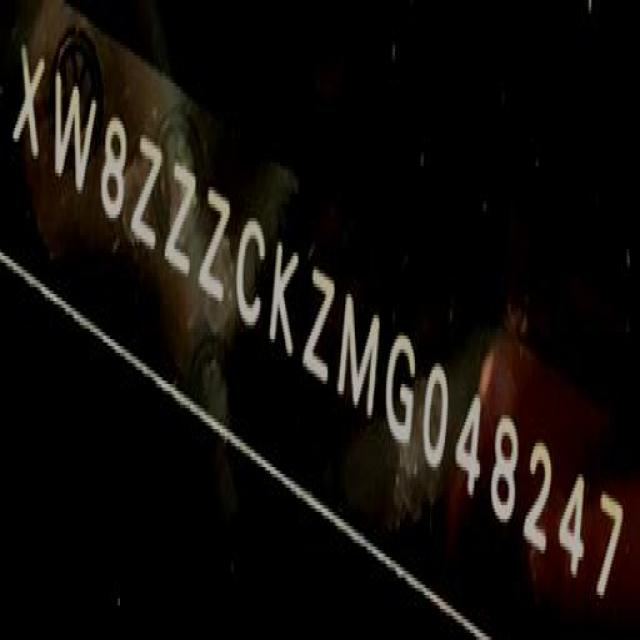0: (420, 354, 451, 469)
2: (524, 430, 554, 556)
4: (559, 471, 589, 578), (453, 396, 482, 498)
7: (598, 492, 624, 609)
8: (492, 408, 520, 526), (101, 104, 127, 223)
C: (266, 229, 302, 361), (234, 215, 268, 328)
G: (382, 324, 417, 456)
M: (338, 298, 381, 415)
W: (52, 42, 96, 206)
X: (15, 24, 47, 181)
Z: (203, 166, 234, 318), (130, 130, 163, 254), (165, 156, 198, 277), (304, 264, 336, 384)
